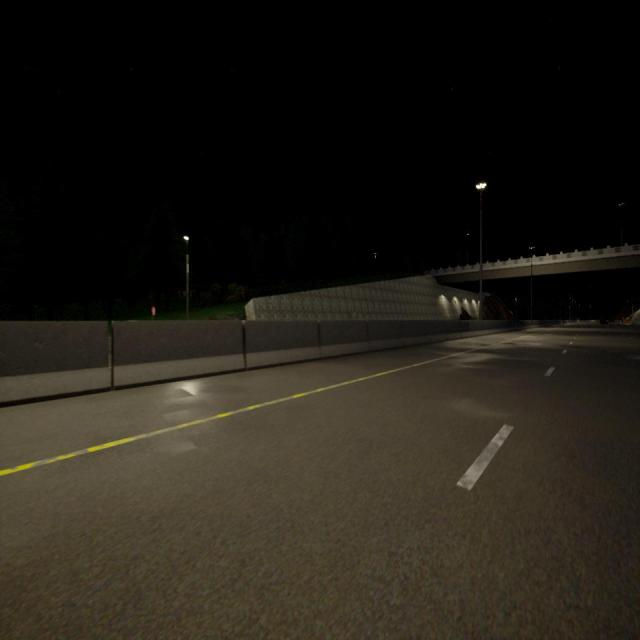Vehicle: (600, 319, 608, 325)
traffic_light: (151, 306, 156, 316)
